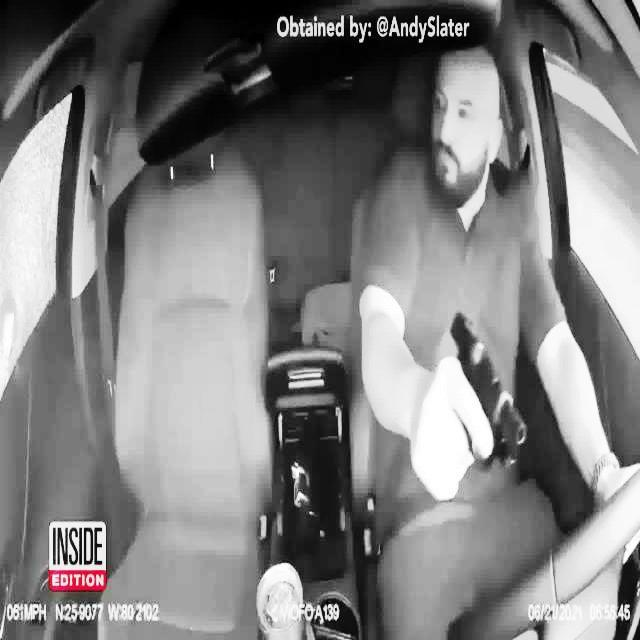Gun: (435, 298, 535, 462)
